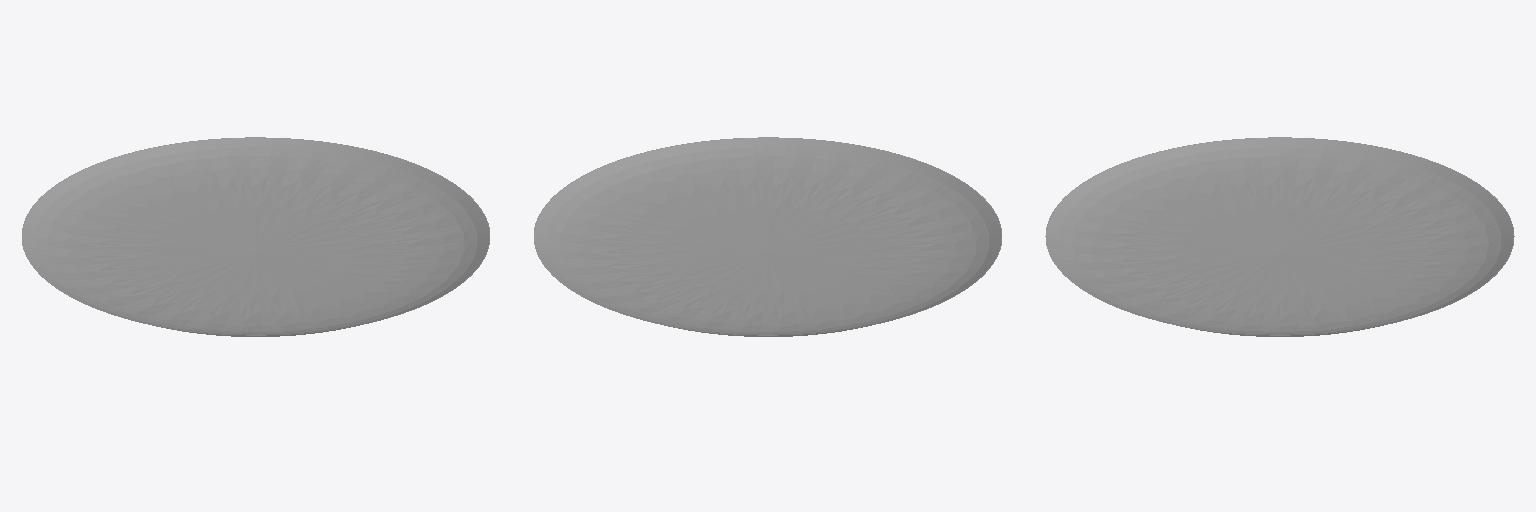
The model's file is plate.obj.
3 views of the same model, side by side, from view 1: azimuth 30°, elevation 25°; view 2: azimuth 150°, elevation 25°; view 3: azimuth 270°, elevation 25° (orthographic).
Visible parts, largest first — view 1: plate_Cylinder.001; view 2: plate_Cylinder.001; view 3: plate_Cylinder.001.
Part boxes in pixels (x1,y1,x2,y2): plate_Cylinder.001: (22, 137, 489, 336); plate_Cylinder.001: (534, 137, 1001, 336); plate_Cylinder.001: (1045, 137, 1514, 336).
Size of the model in its own units: 6.1 by 0.5595 by 6.1.